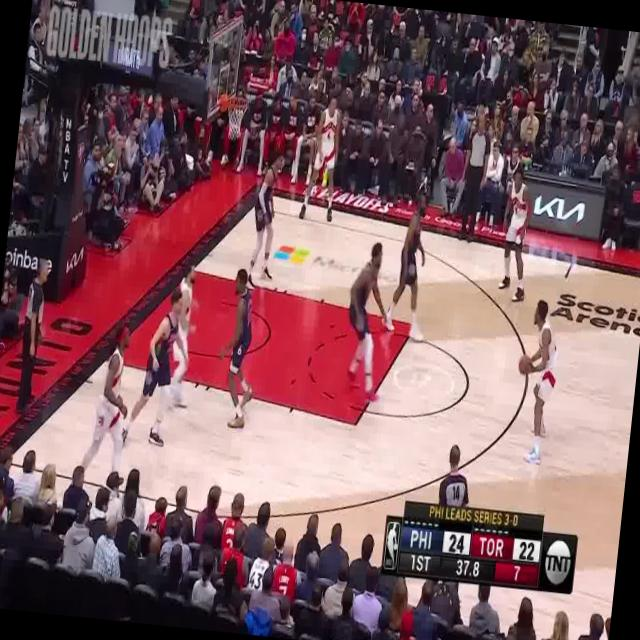ball-handler: (499, 290, 568, 468)
